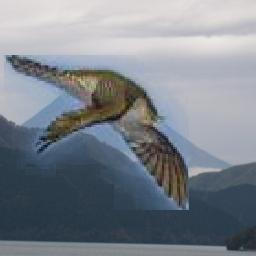Cuckoo: (5, 56, 190, 211)
